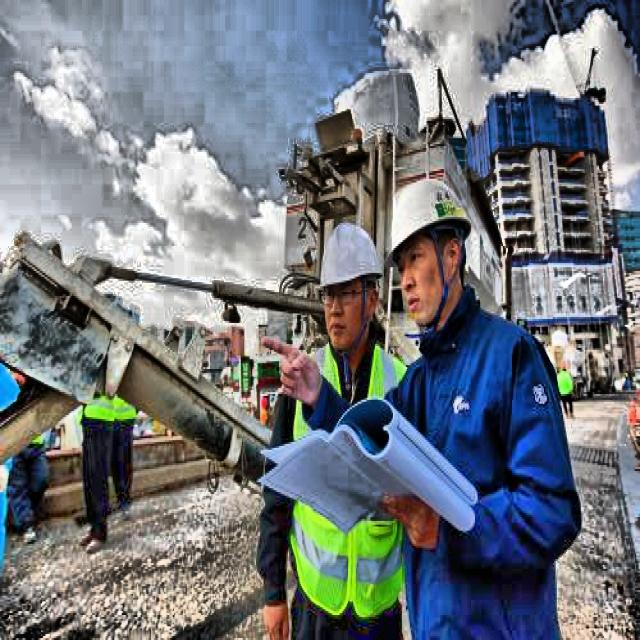helmet: (389, 167, 475, 340), (306, 219, 386, 352)
